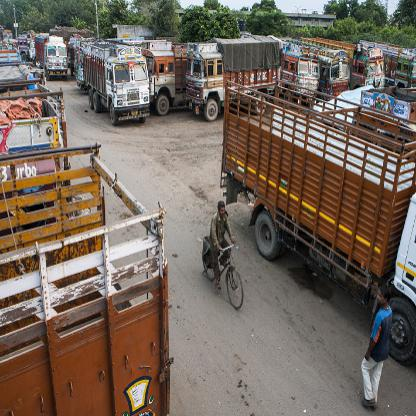truck: (223, 81, 416, 365), (186, 43, 280, 112), (82, 36, 148, 128), (141, 40, 191, 118), (284, 50, 316, 106), (36, 34, 67, 75)
